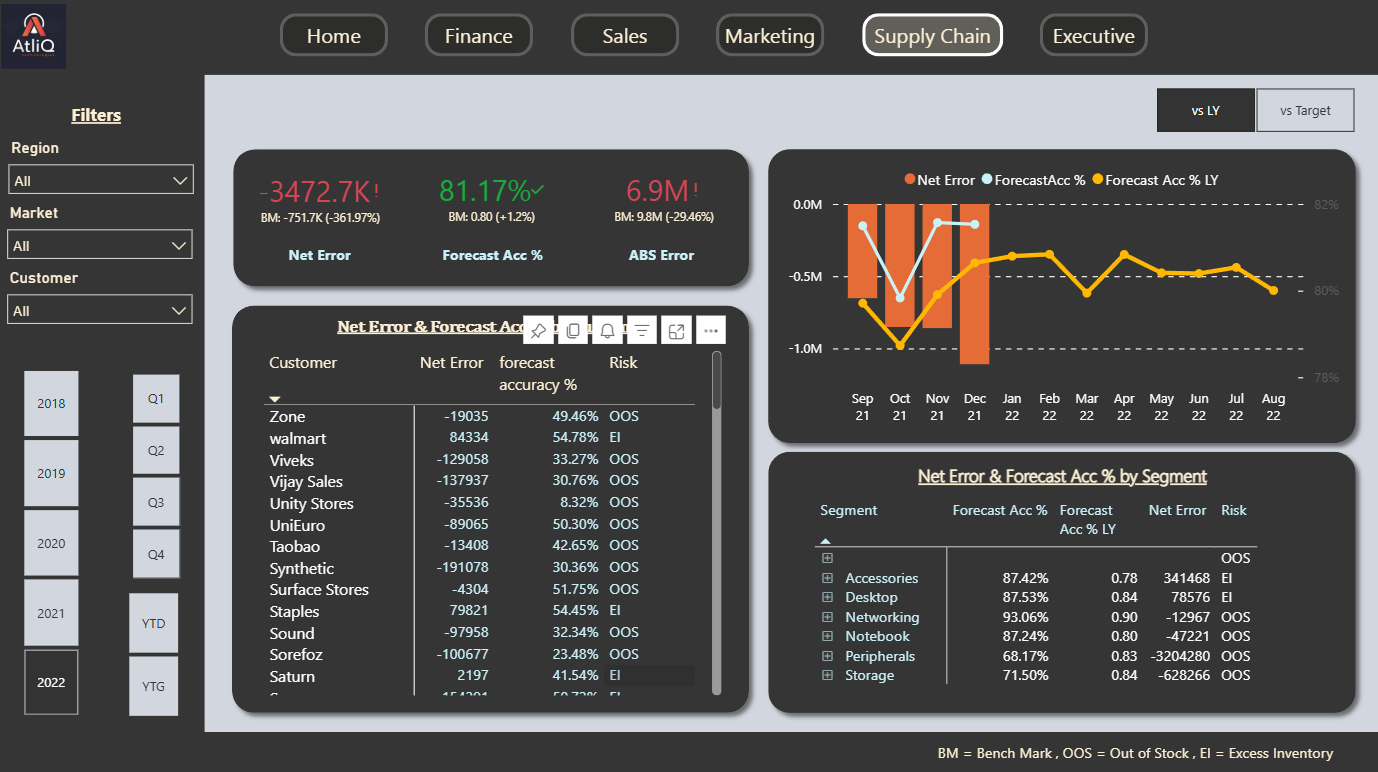

This screenshot's page, from the dashboard's own definition file:
{"tool":"powerbi","page":{"name":"Supply Chain View","canvas":[1280,720],"ordinal":4},"visuals":[{"type":"shape","box":[0,0,1280,72.4],"z":0},{"type":"shape","box":[0,679,1280,41],"z":0,"group":"g1"},{"type":"shape","box":[0,0,193,720.2],"z":1000},{"type":"textbox","box":[865.2,684,400.9,31],"z":1000,"group":"g1"},{"type":"slicer","fields":{"Values":["gdb041 dim_market.market"]},"box":[0,185.8,191.8,60.3],"z":2000},{"type":"slicer","fields":{"Values":["gdb041 dim_customer.customer"]},"box":[0,246.1,191.8,59.1],"z":3000},{"type":"slicer","fields":{"Values":["gdb041 dim_market.region"]},"box":[1.2,125.5,191.8,60.3],"z":4000},{"type":"image","box":[0,0,70,72.4],"z":5000},{"type":"slicer","fields":{"Values":["fiscal_year.Fiscal Year"]},"box":[0,339,100.1,331.8],"z":6000},{"type":"slicer","fields":{"Values":["dim_date.Quaters"]},"box":[100.1,341.4,92.9,201.5],"z":7000},{"type":"slicer","fields":{"Values":["dim_date.ytd_ytg"]},"box":[96.5,544.1,95.3,126.7],"z":8000},{"type":"textbox","box":[65.1,92.9,65.1,32.6],"z":9000},{"type":"actionButton","box":[261.8,14.7,100.1,39.8],"z":10000},{"type":"actionButton","box":[396.4,14.7,100.1,39.8],"z":11000},{"type":"actionButton","box":[531.1,14.7,100.1,39.8],"z":12000},{"type":"actionButton","box":[665.7,14.7,100.1,39.8],"z":13000},{"type":"actionButton","box":[800.4,14.7,130.3,39.8],"z":14000},{"type":"actionButton","box":[965.2,14.7,100.1,39.8],"z":15000},{"type":"slicer","fields":{"Values":["NS BM.Benchmark "]},"box":[1047.1,77.2,232.8,54.3],"z":16000},{"type":"shape","box":[208.7,276.3,495.8,394.5],"z":17000},{"type":"shape","box":[704.6,411.4,561,259.4],"z":18000},{"type":"shape","box":[704.6,131.5,561,289.5],"z":19000},{"type":"shape","box":[209.9,131.5,494.6,144.8],"z":20000},{"type":"textbox","box":[292,289.5,339,32.6],"z":21000},{"type":"textbox","box":[761.3,425.9,448.8,33.8],"z":22000},{"type":"pivotTable","fields":{"Rows":["gdb041 dim_product.segment","gdb041 dim_product.category","gdb041 dim_product.product"],"Values":["Key Measures.forecast accuracy %","Key Measures.Forecast Acc % LY","Key Measures.Net Error","Key Measures.Risk"]},"box":[751.6,459.7,468.1,190.6],"z":23000},{"type":"kpi","fields":{"Goal":["Key Measures.Net Error LY"],"TrendLine":["dim_date.Fiscal Year"],"Indicator":["Key Measures.Net Error"]},"box":[219.8,145,160.5,79.6],"z":24000},{"type":"kpi","fields":{"TrendLine":["dim_date.Fiscal Year"],"Indicator":["Key Measures.Abs Error"],"Goal":["Key Measures.Abs Error LY"]},"box":[536.9,144.8,160.5,79.6],"z":25000},{"type":"kpi","fields":{"TrendLine":["dim_date.Fiscal Year"],"Goal":["Key Measures.Forecast Acc % LY"],"Indicator":["Key Measures.forecast accuracy %"]},"box":[378.3,144.8,160.5,79.6],"z":26000},{"type":"textbox","box":[550.1,224.4,133.9,30.2],"z":27000},{"type":"textbox","box":[232.8,224.4,135.1,30.2],"z":28000},{"type":"textbox","box":[391.5,224.4,135.1,29],"z":29000},{"type":"lineStackedColumnComboChart","fields":{"Y":["Key Measures.Net Error"],"Category":["dim_date.Month"],"Y2":["Key Measures.forecast accuracy %","Key Measures.Forecast Acc % LY"]},"box":[726.3,148.4,520,254.6],"z":30000},{"type":"pivotTable","fields":{"Rows":["gdb041 dim_customer.customer"],"Values":["Key Measures.Net Error","Key Measures.forecast accuracy %","Key Measures.Risk"]},"box":[242.5,322.1,433.1,328.2],"z":31000},{"type":"group","id":"g1","title":"Footer","box":[0,679,1280,41],"z":32000}]}

Visuals, with their boxes in screenshot pixels (x1, y1, x2, y2), scaled from the page's 1280x720 canvas onto the 1378x772 screenshot:
shape: pyautogui.locateOnScreen(0, 0, 1377, 78)
shape: pyautogui.locateOnScreen(0, 728, 1377, 771)
shape: pyautogui.locateOnScreen(0, 0, 208, 771)
textbox: pyautogui.locateOnScreen(931, 733, 1363, 767)
slicer - gdb041 dim_market.market: pyautogui.locateOnScreen(0, 199, 206, 264)
slicer - gdb041 dim_customer.customer: pyautogui.locateOnScreen(0, 264, 206, 327)
slicer - gdb041 dim_market.region: pyautogui.locateOnScreen(1, 135, 208, 199)
image: pyautogui.locateOnScreen(0, 0, 75, 78)
slicer - fiscal_year.Fiscal Year: pyautogui.locateOnScreen(0, 363, 108, 719)
slicer - dim_date.Quaters: pyautogui.locateOnScreen(108, 366, 208, 582)
slicer - dim_date.ytd_ytg: pyautogui.locateOnScreen(104, 583, 206, 719)
textbox: pyautogui.locateOnScreen(70, 100, 140, 135)
actionButton: pyautogui.locateOnScreen(282, 16, 390, 58)
actionButton: pyautogui.locateOnScreen(427, 16, 535, 58)
actionButton: pyautogui.locateOnScreen(572, 16, 680, 58)
actionButton: pyautogui.locateOnScreen(717, 16, 824, 58)
actionButton: pyautogui.locateOnScreen(862, 16, 1002, 58)
actionButton: pyautogui.locateOnScreen(1039, 16, 1147, 58)
slicer - NS BM.Benchmark : pyautogui.locateOnScreen(1127, 83, 1377, 141)
shape: pyautogui.locateOnScreen(225, 296, 758, 719)
shape: pyautogui.locateOnScreen(759, 441, 1362, 719)
shape: pyautogui.locateOnScreen(759, 141, 1362, 451)
shape: pyautogui.locateOnScreen(226, 141, 758, 296)
textbox: pyautogui.locateOnScreen(314, 310, 679, 345)
textbox: pyautogui.locateOnScreen(820, 457, 1303, 493)
pivotTable - gdb041 dim_product.segment x gdb041 dim_product.category: pyautogui.locateOnScreen(809, 493, 1313, 697)
kpi - Key Measures.Net Error LY x dim_date.Fiscal Year: pyautogui.locateOnScreen(237, 155, 409, 241)
kpi - dim_date.Fiscal Year x Key Measures.Abs Error: pyautogui.locateOnScreen(578, 155, 751, 241)
kpi - dim_date.Fiscal Year x Key Measures.Forecast Acc % LY: pyautogui.locateOnScreen(407, 155, 580, 241)
textbox: pyautogui.locateOnScreen(592, 241, 736, 273)
textbox: pyautogui.locateOnScreen(251, 241, 396, 273)
textbox: pyautogui.locateOnScreen(421, 241, 567, 272)
lineStackedColumnComboChart - Key Measures.Net Error x dim_date.Month: pyautogui.locateOnScreen(782, 159, 1342, 432)
pivotTable - gdb041 dim_customer.customer x Key Measures.Net Error: pyautogui.locateOnScreen(261, 345, 727, 697)
"Footer" group: pyautogui.locateOnScreen(0, 728, 1377, 771)
